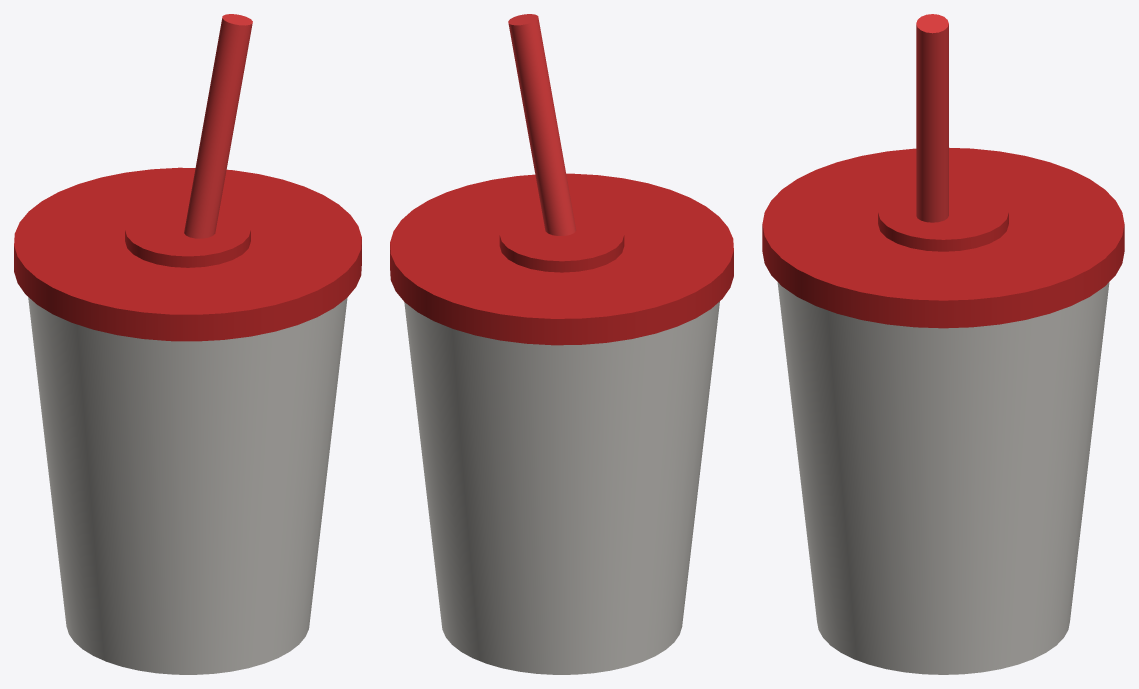
The model's file is refresco.glb.
The picture shows the model from 3 angles, left to right: view 1: azimuth 30°, elevation 25°; view 2: azimuth 150°, elevation 25°; view 3: azimuth 270°, elevation 25°; orthographic projection. The views are drawn at different scales.
Size of the model in its own units: 0.0948 by 0.18 by 0.0948.
